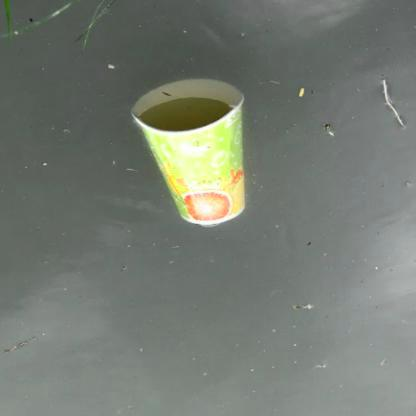Plastic: (128, 71, 250, 230)
